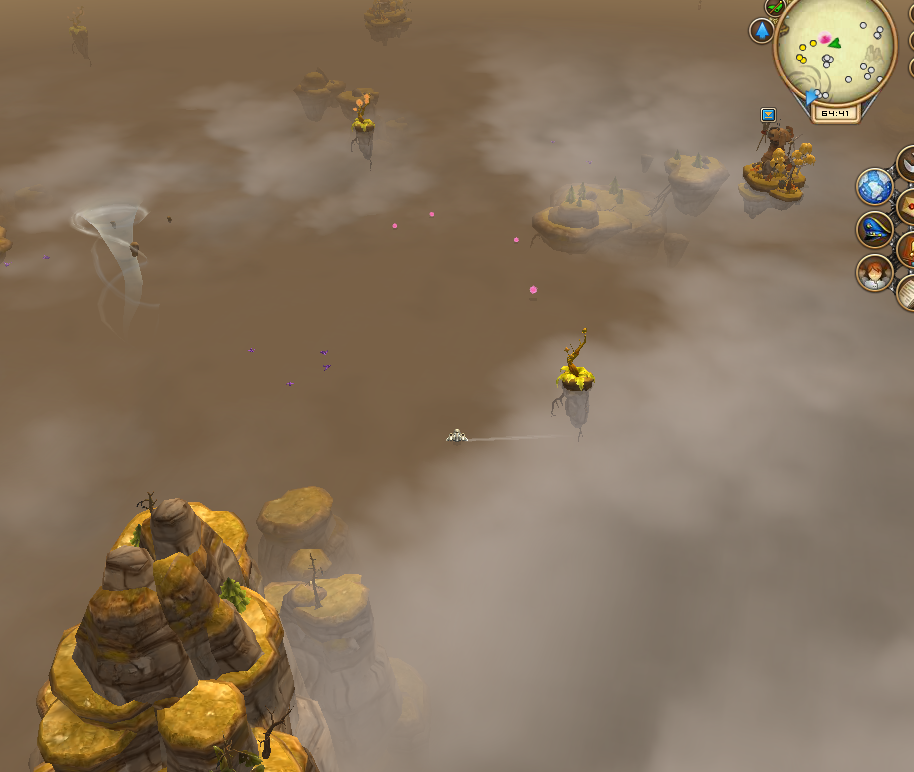dandelion-empty: (549, 324, 602, 409)
dandelion-full: (340, 85, 382, 147), (61, 5, 94, 47)
fluff: (524, 276, 543, 299), (386, 219, 402, 232), (424, 208, 437, 222), (509, 231, 521, 246)
